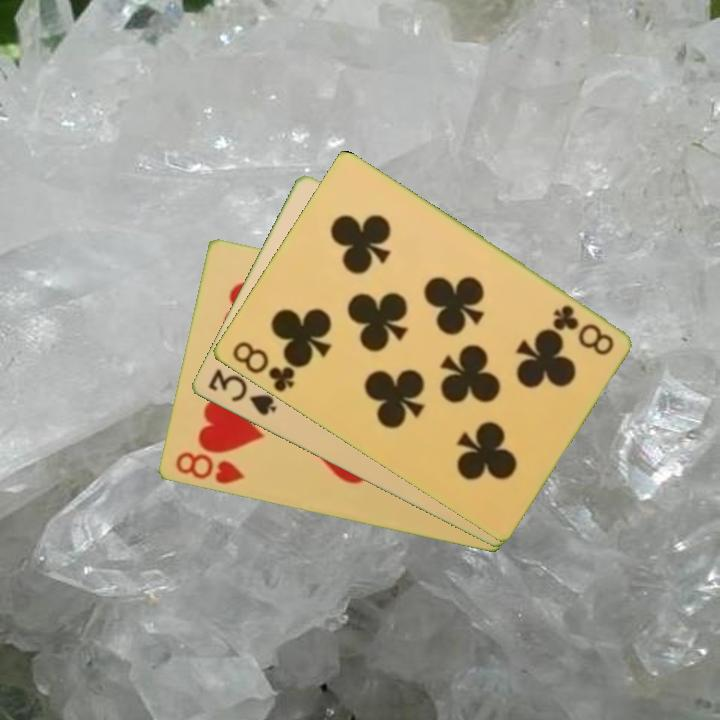3s: (204, 365, 279, 419)
8c: (228, 337, 297, 395), (549, 301, 617, 359)
8h: (171, 448, 247, 488)
